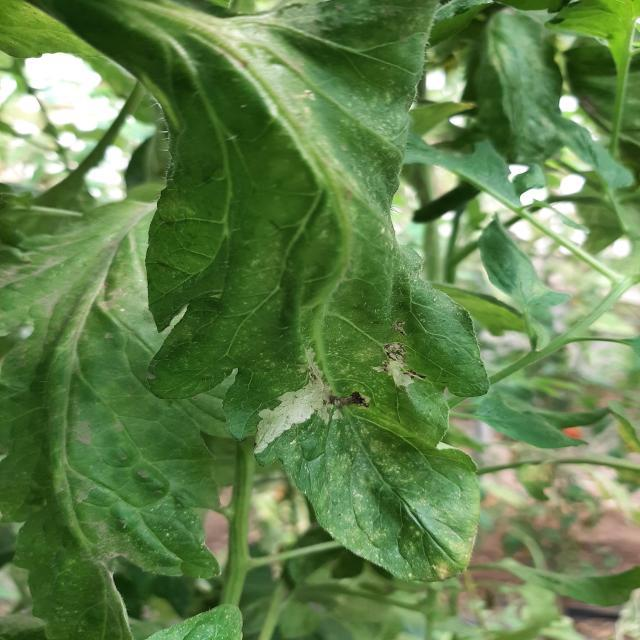Tuta absoluta: (236, 347, 359, 478), (369, 336, 433, 397), (366, 336, 426, 399)
